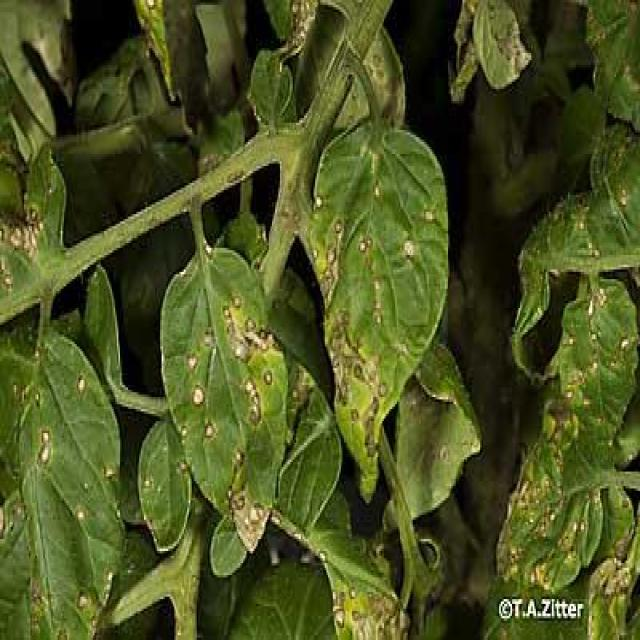Septoria: (306, 114, 452, 509), (156, 248, 290, 553), (0, 320, 123, 640), (557, 267, 640, 452), (299, 525, 419, 635), (468, 0, 537, 89)
